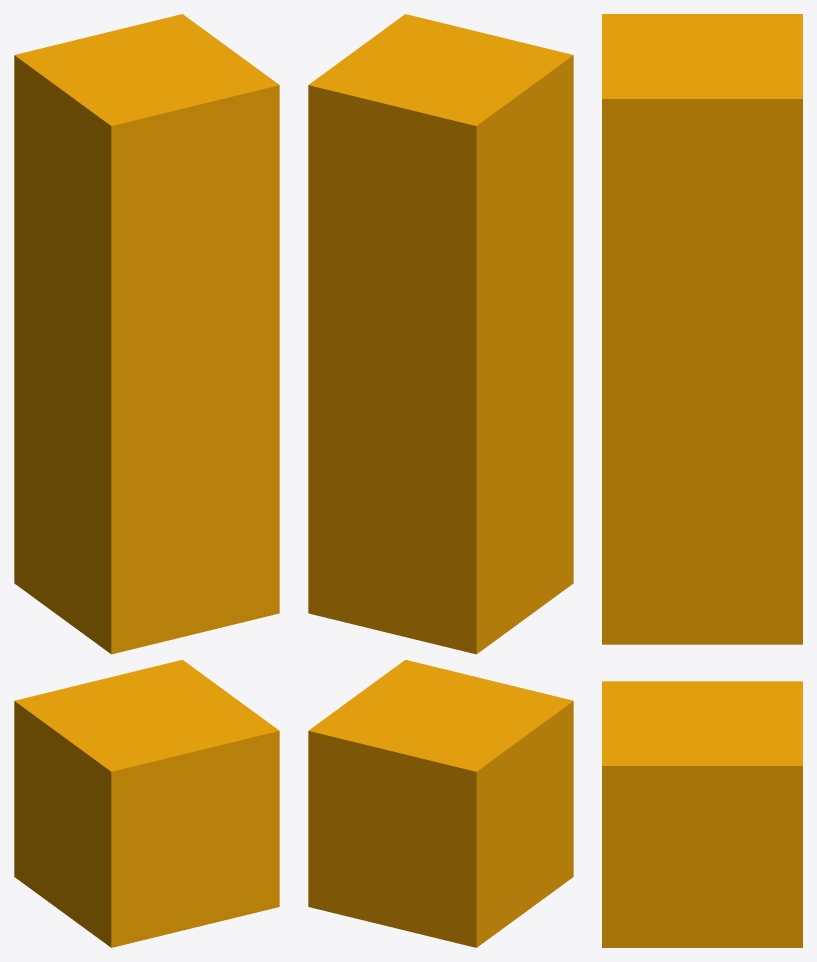
File: lvl2-26.obj
3 views of the same model, side by side, from view 1: azimuth 30°, elevation 25°; view 2: azimuth 150°, elevation 25°; view 3: azimuth 270°, elevation 25° (orthographic). The views are drawn at different scales.
Bounding box in the file's own units: 0.3 × 1.4 × 0.3.
Materials: 1 (1 with a texture image).
